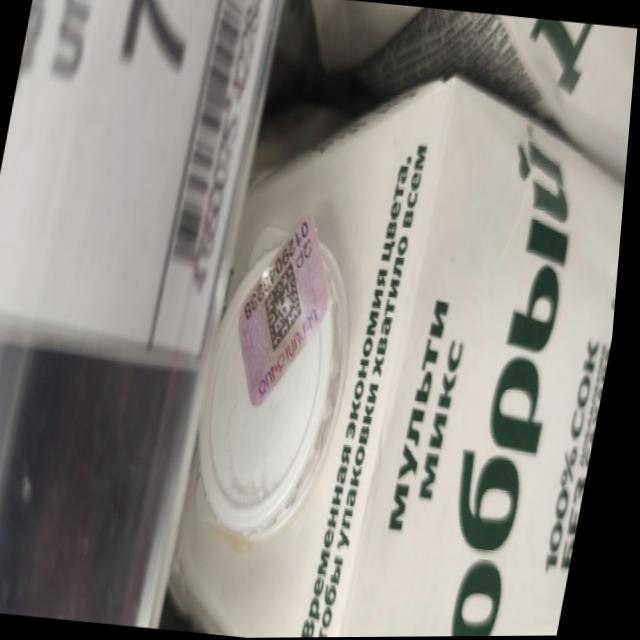datamatrix: (259, 258, 316, 356)
